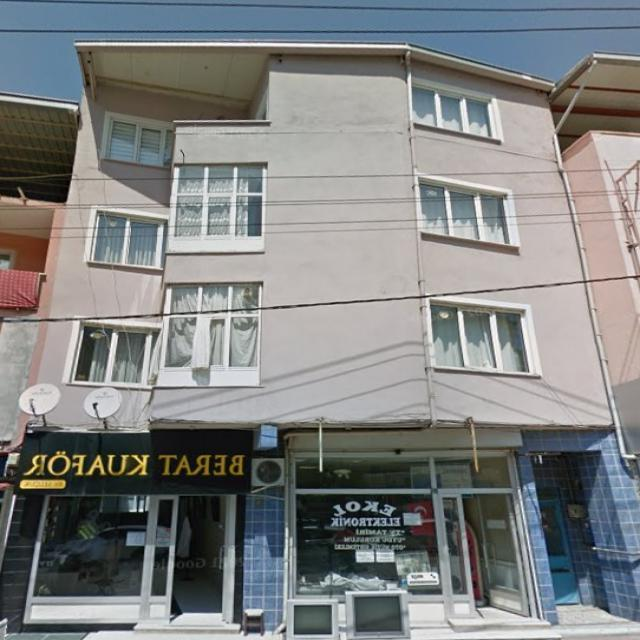Building: (0, 43, 639, 633)
